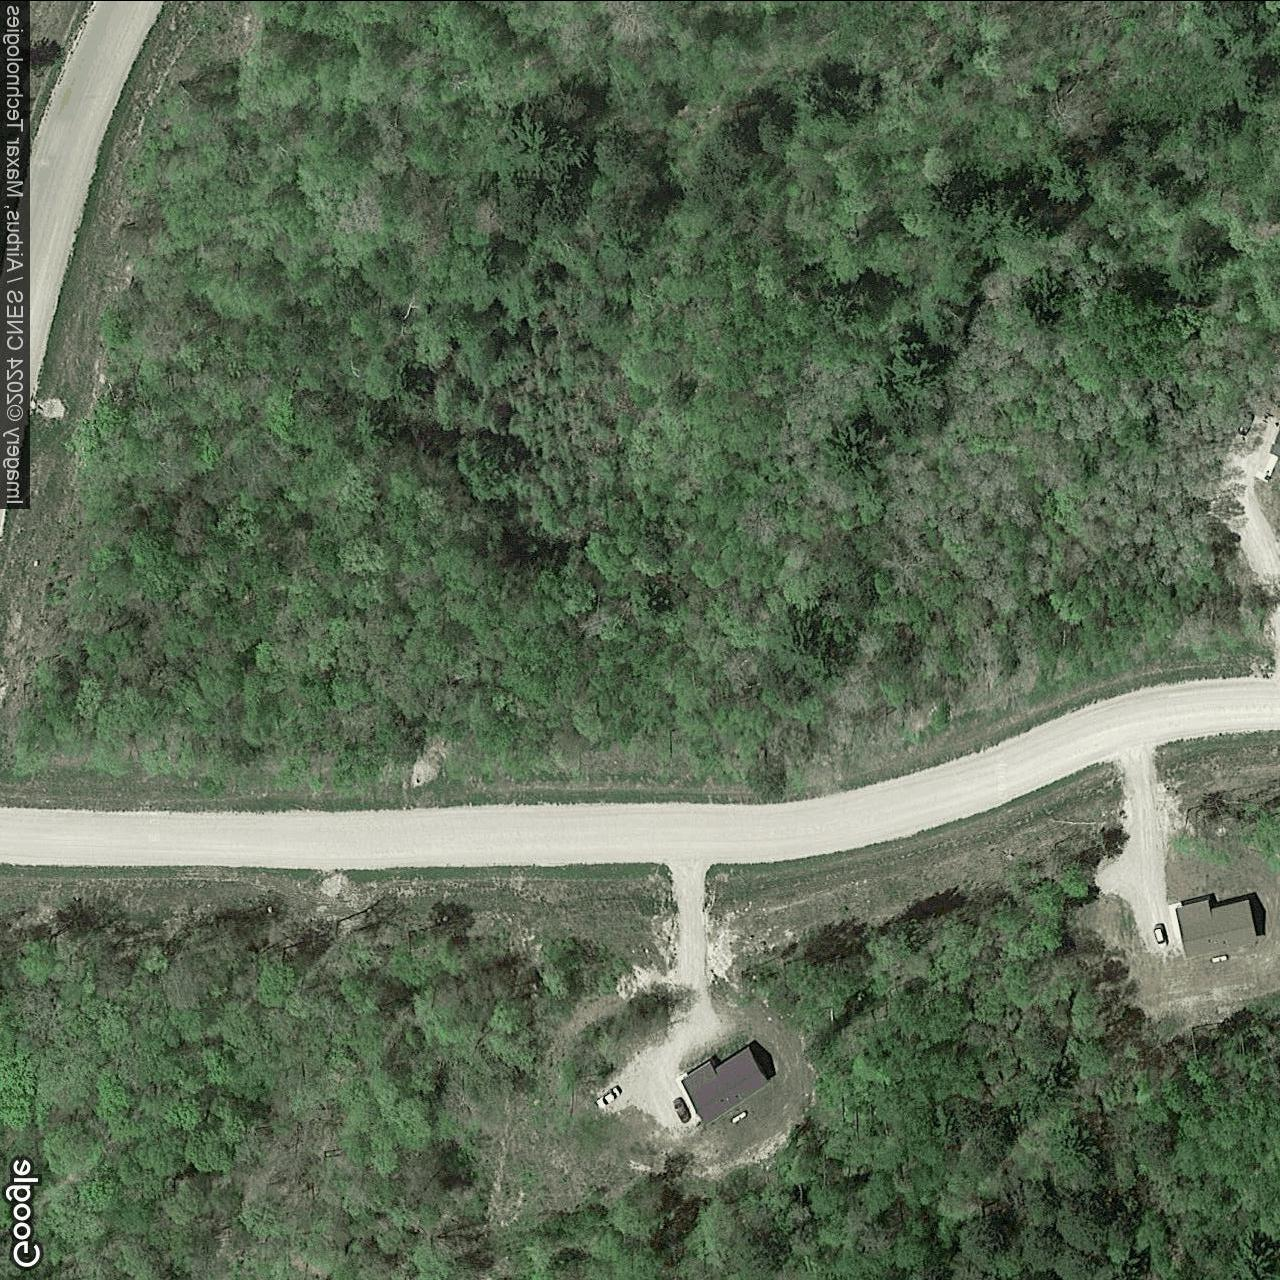House: (680, 1044, 772, 1124), (1175, 897, 1259, 960)
Propane: (728, 1108, 751, 1125), (1207, 952, 1231, 965)
